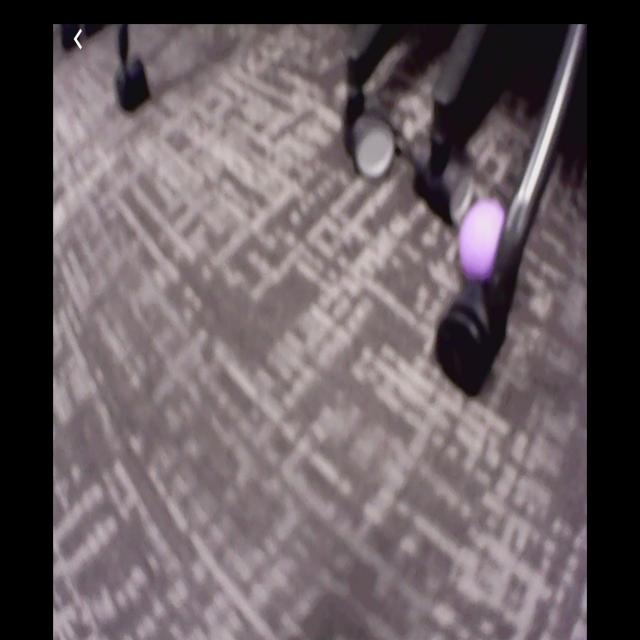ball: (459, 198, 512, 278)
